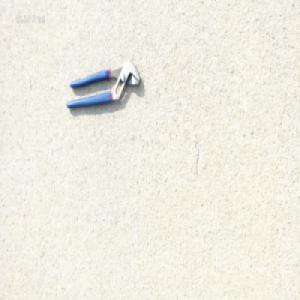Pliers: (65, 58, 142, 111)
